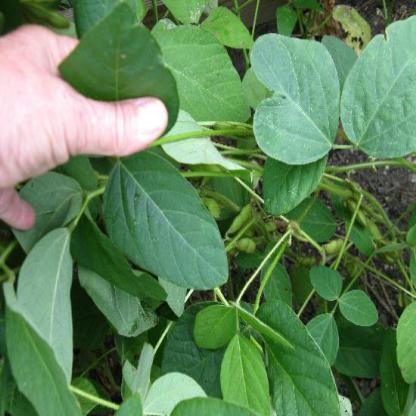Soyabean leaf: (101, 150, 228, 290), (248, 32, 340, 164), (142, 14, 251, 123), (250, 298, 344, 415), (340, 16, 416, 160), (15, 226, 72, 412), (218, 329, 269, 415), (193, 305, 236, 349)
